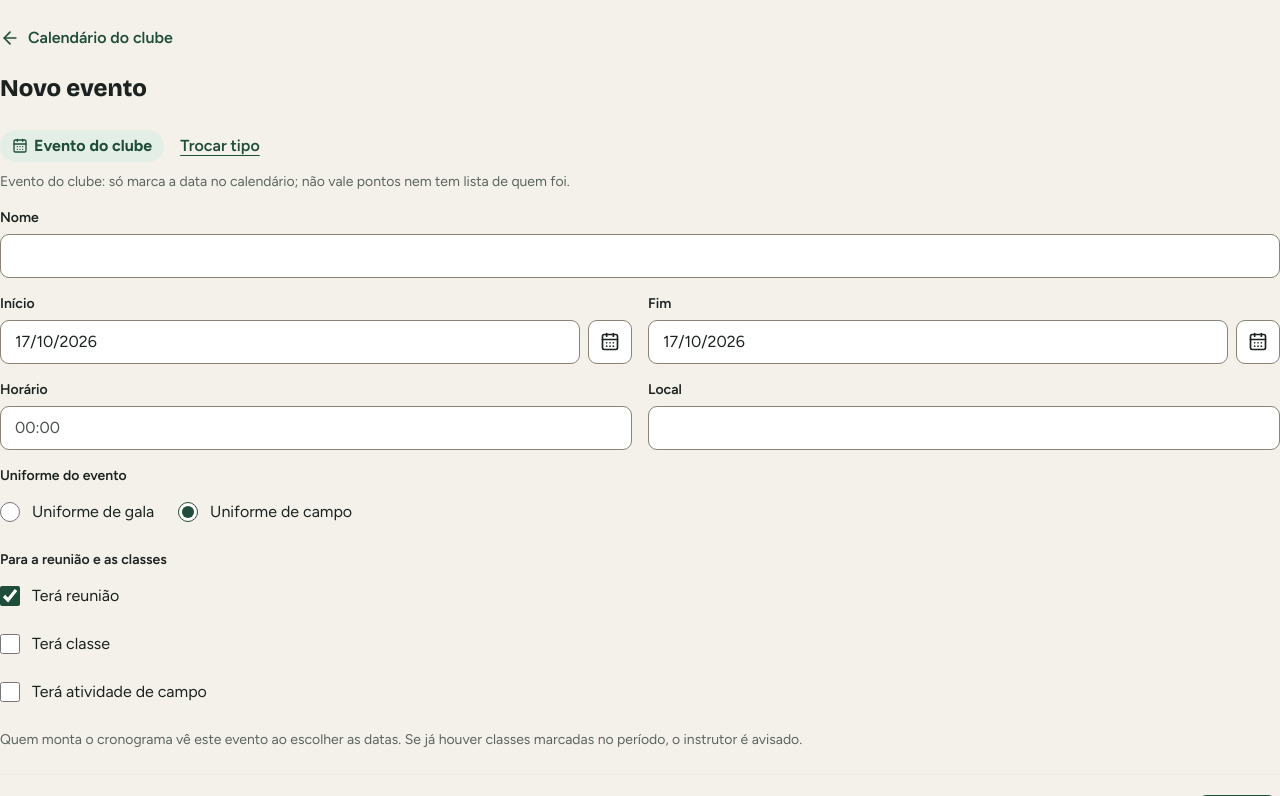
it: Novo evento · formulário com o tipo escolhido › Trocar tipo com algo preenchido confirma; continuar preenchendo mantém o que foi digitado
The image size is (1280, 796).
In the field labelled "Nome": {"x": 640, "y": 256} [0,234,1279,278], type "Culto de gala"
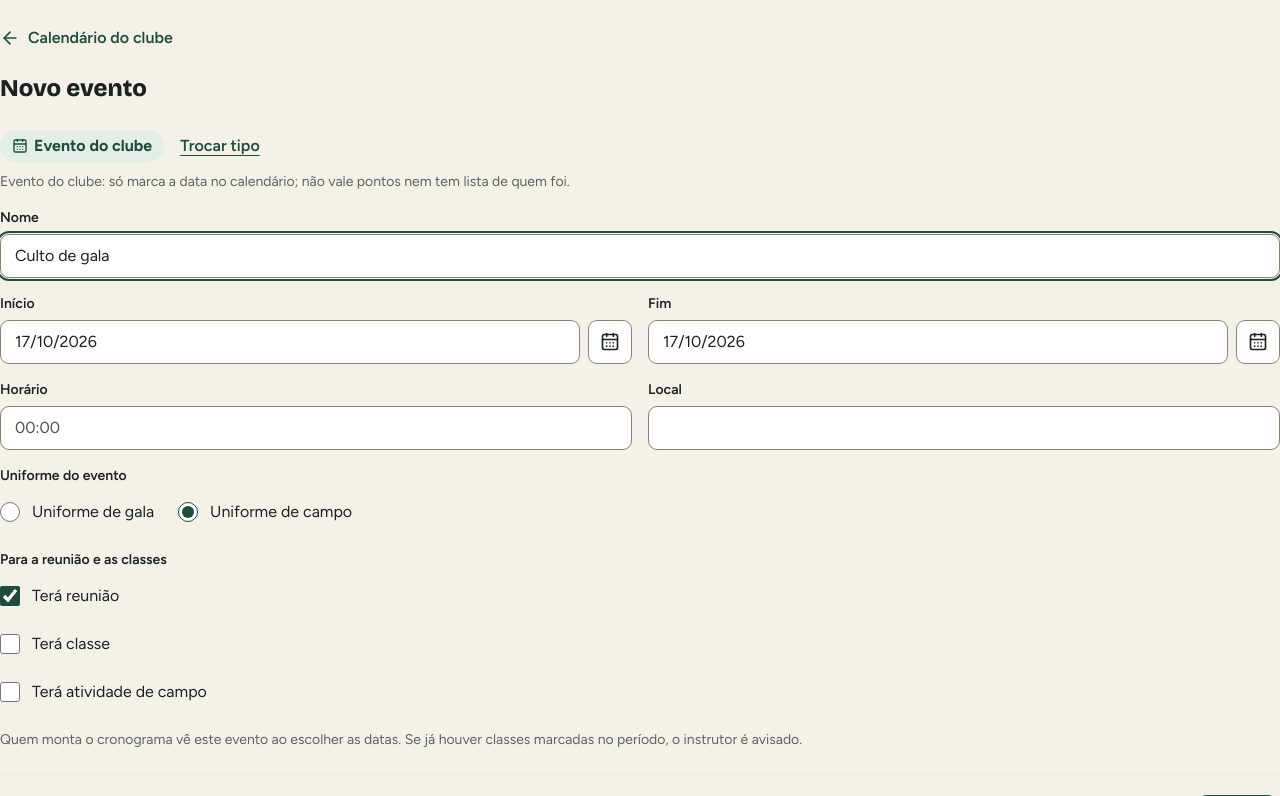
Click the link "Trocar tipo": {"x": 220, "y": 146} [180,136,260,155]
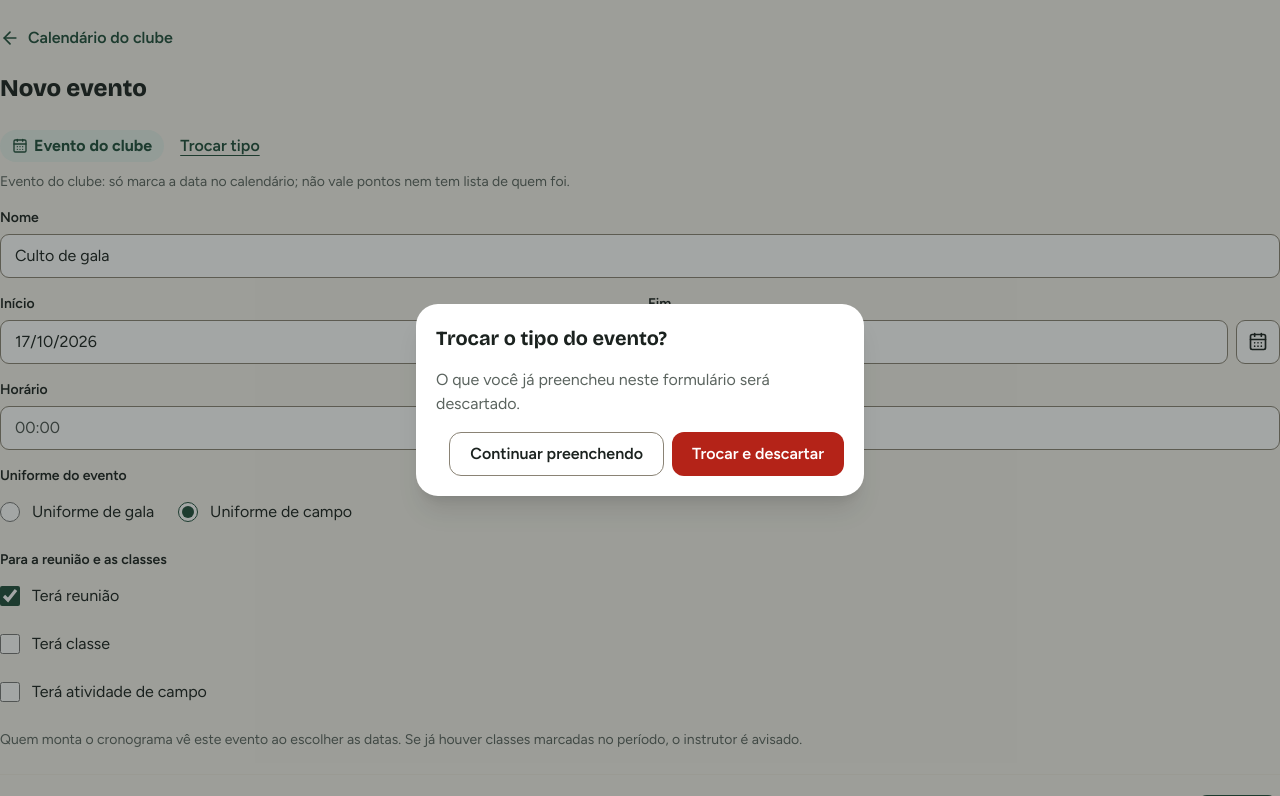
Now the dialog "Trocar o tipo do evento?" shows "O que você já preencheu neste formulário será descartado.", box [436,370,770,413]
Click the button "Continuar preenchendo": {"x": 557, "y": 454} [449,432,664,476]
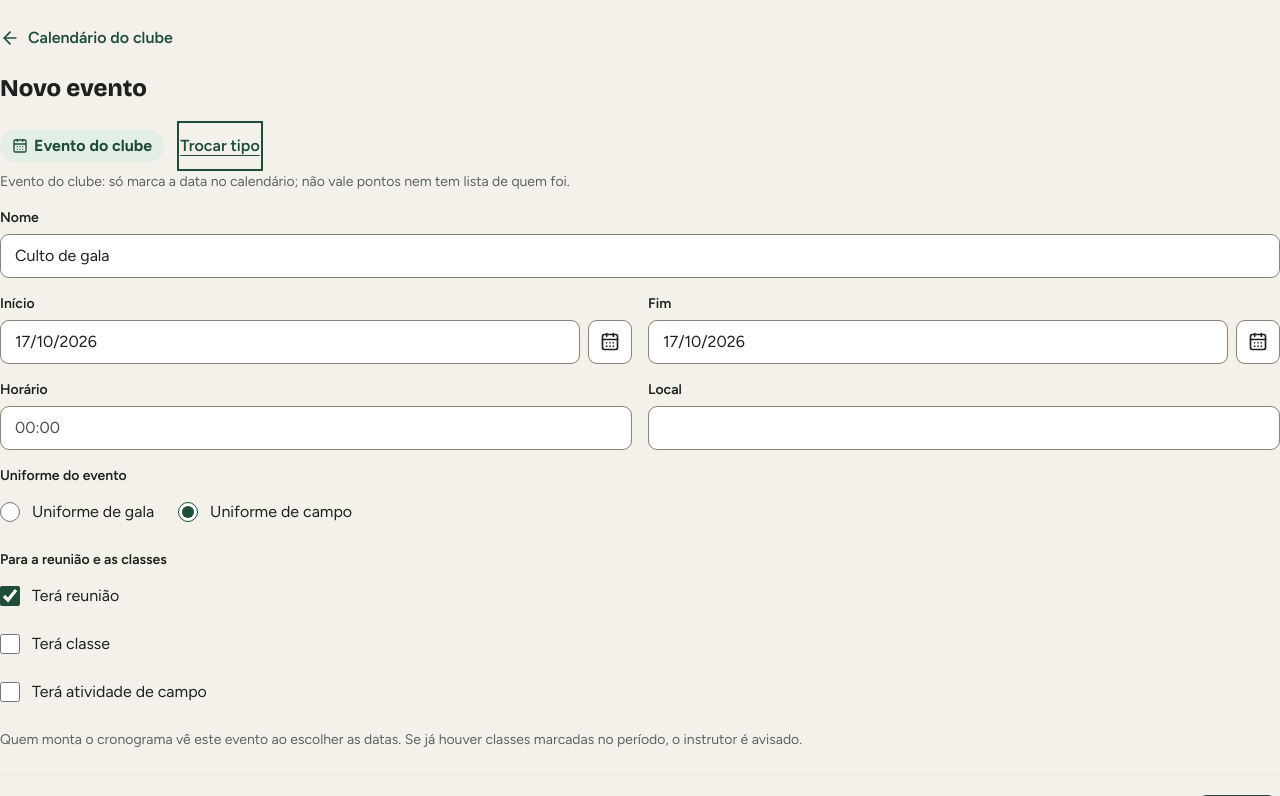
Now the dialog is gone
